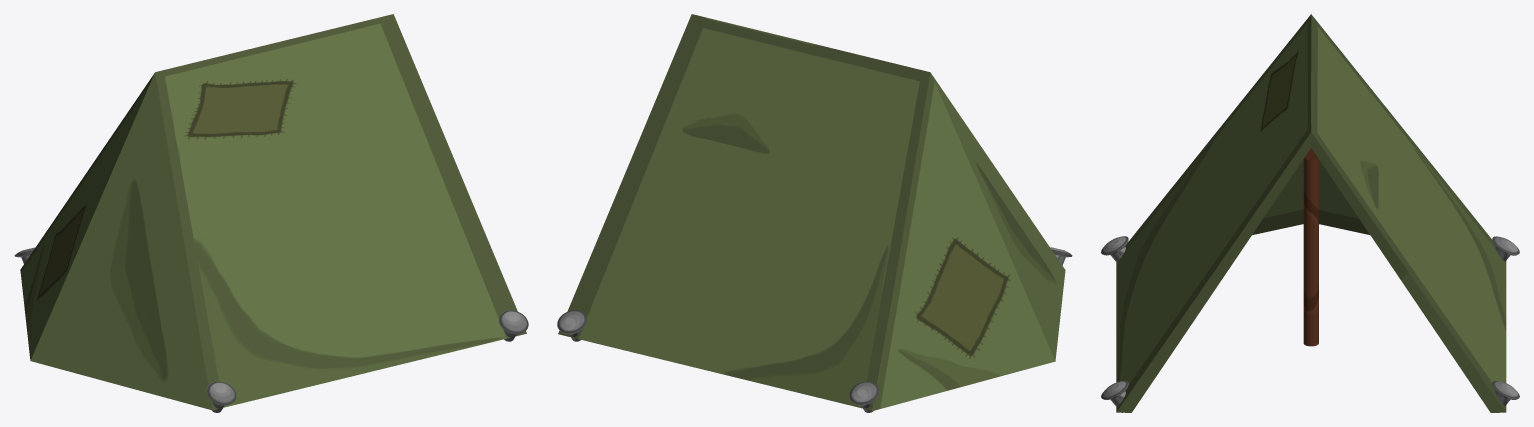
File: tent.glb
3 renders of one model, left to right at view 1: azimuth 30°, elevation 25°; view 2: azimuth 150°, elevation 25°; view 3: azimuth 270°, elevation 25°, orthographic.
Parts seen in each view (by area): view 1: Cube, Cylinder.001; view 2: Cube, Cylinder.001; view 3: Cube, Cylinder, Cylinder.001.
Part boxes in pixels (x1,y1,x2,y2): Cube: [20, 14, 526, 410]; Cylinder.001: [14, 247, 528, 412]; Cube: [558, 14, 1065, 410]; Cylinder.001: [557, 247, 1072, 412]; Cube: [1116, 14, 1506, 412]; Cylinder: [1303, 148, 1318, 346]; Cylinder.001: [1101, 236, 1519, 412].
Size of the model in its own units: 346 by 218 by 308.
3 materials, 3 textured.
